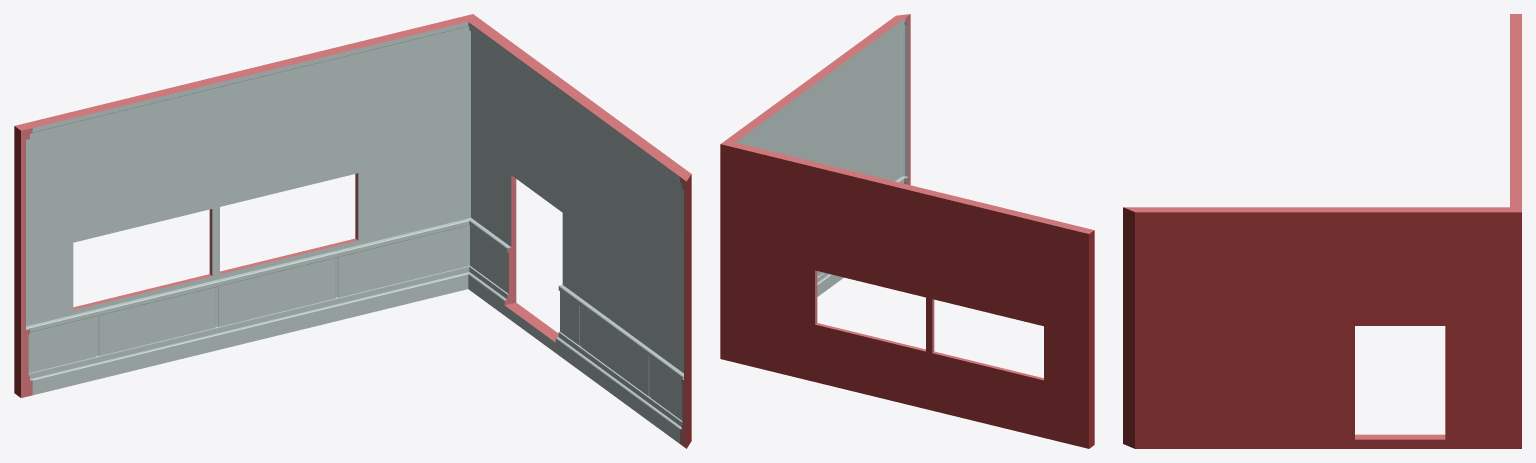
The model's file is Foyer_Wall.fbx.
3 views of the same model, side by side, from view 1: azimuth 30°, elevation 25°; view 2: azimuth 150°, elevation 25°; view 3: azimuth 270°, elevation 25° (orthographic). The views are drawn at different scales.
Parts seen in each view (by area): view 1: polySurface295; view 2: polySurface295; view 3: polySurface295.
Boxes of the visible parts, box(x1,y1,x2,y2) form: polySurface295: box(14, 14, 691, 448); polySurface295: box(720, 14, 1094, 448); polySurface295: box(1123, 14, 1521, 448).
Bounding box in the file's own units: 93.37 × 52 × 79.37.
